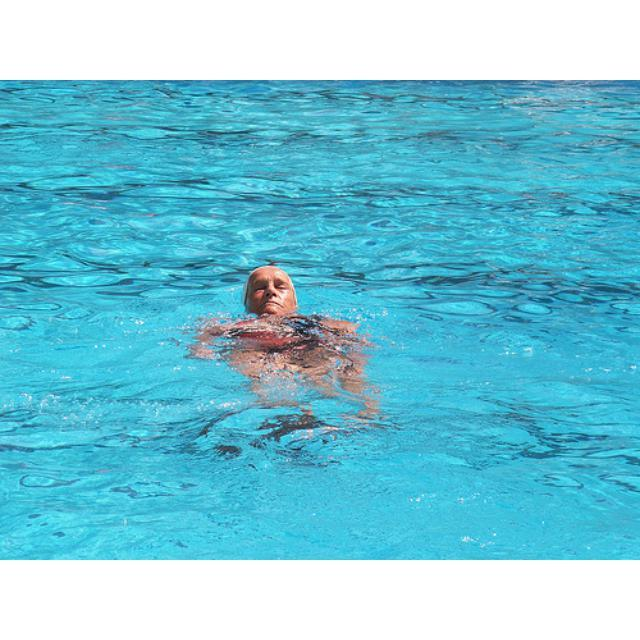human: (198, 259, 368, 392)
